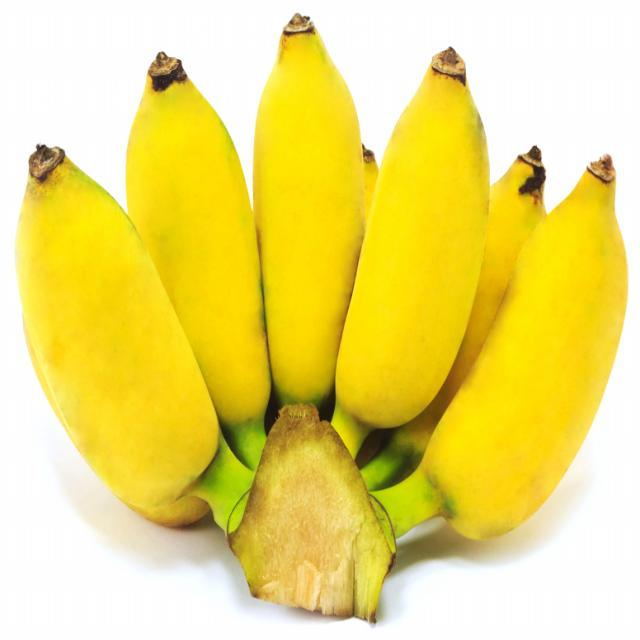banana: (16, 7, 632, 622)
